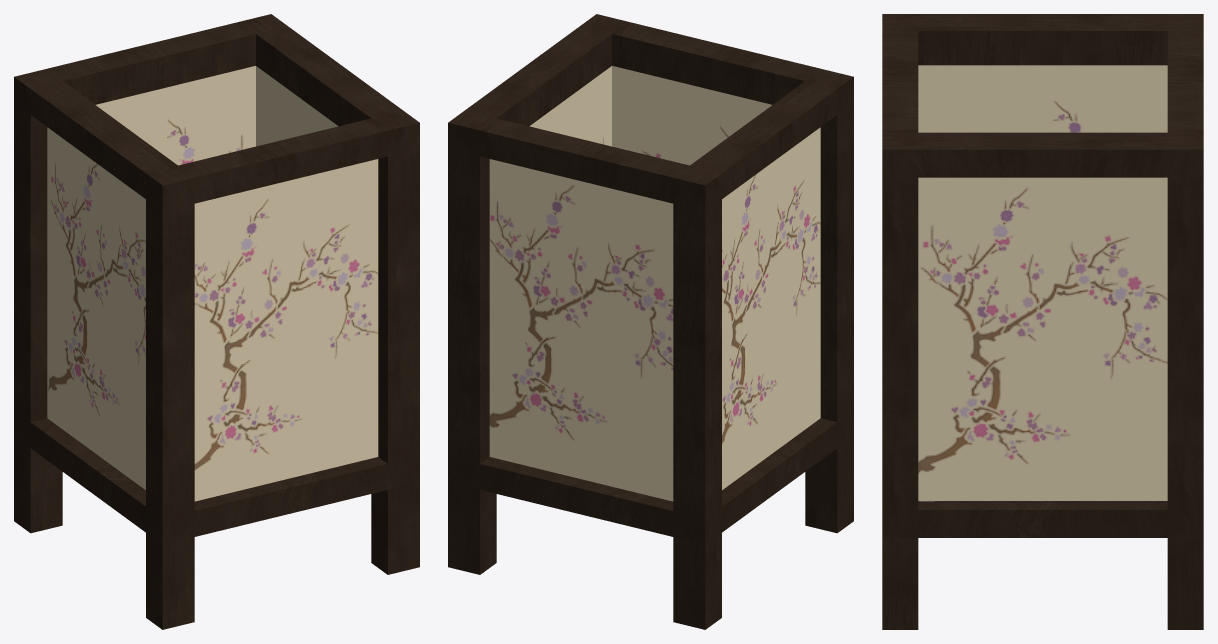
Rendered from littleLantern.fbx.
3 views of the same model, side by side, from view 1: azimuth 30°, elevation 25°; view 2: azimuth 150°, elevation 25°; view 3: azimuth 270°, elevation 25° (orthographic). The views are drawn at different scales.
Visible parts, largest first — view 1: pCube1; view 2: pCube1; view 3: pCube1.
Part boxes in pixels (x1,y1,x2,y2): pCube1: [14, 14, 419, 629]; pCube1: [448, 14, 853, 629]; pCube1: [882, 14, 1203, 629].
Bounding box in the file's own units: 121 × 200 × 121.
